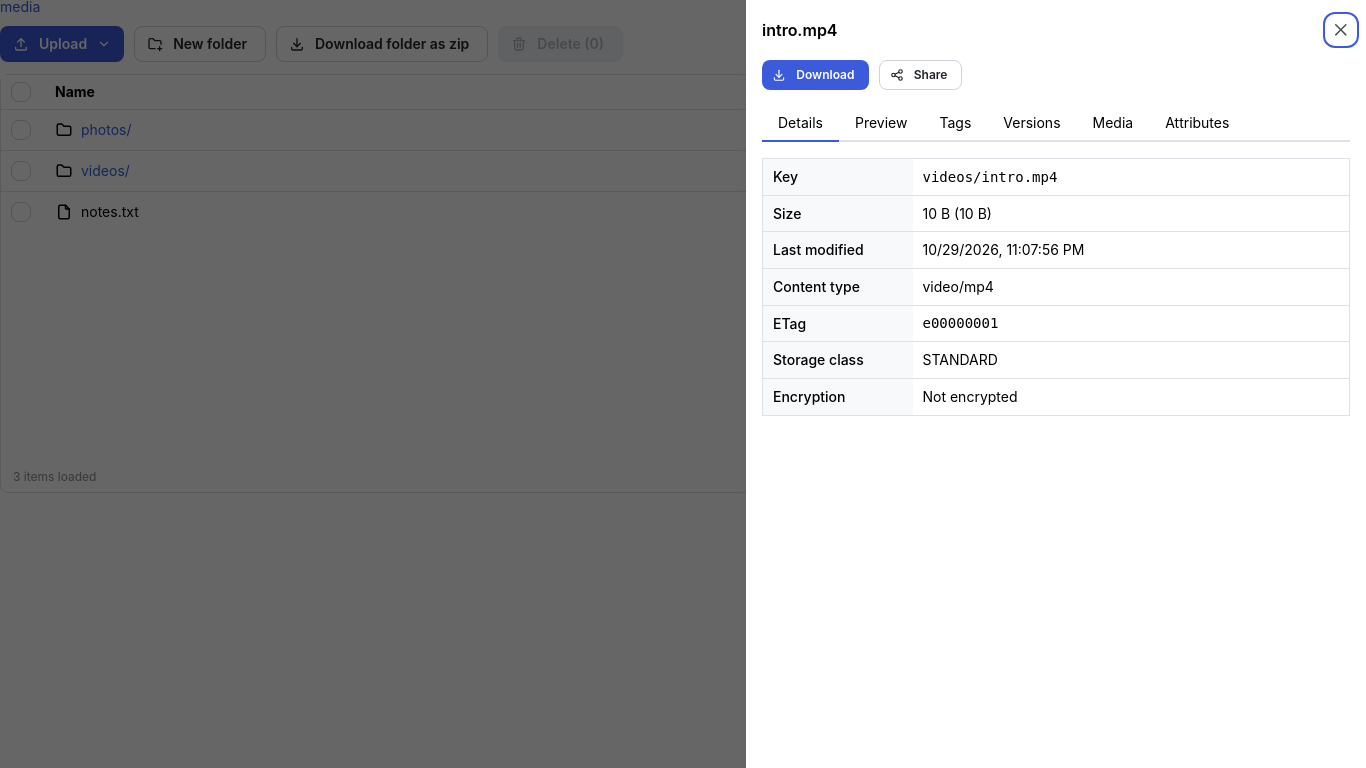
ObjectMediaPanel › reprocesses a video and shows its outputs
Click the tab "Media" at point(1113, 124), box [1076,106,1149,142]
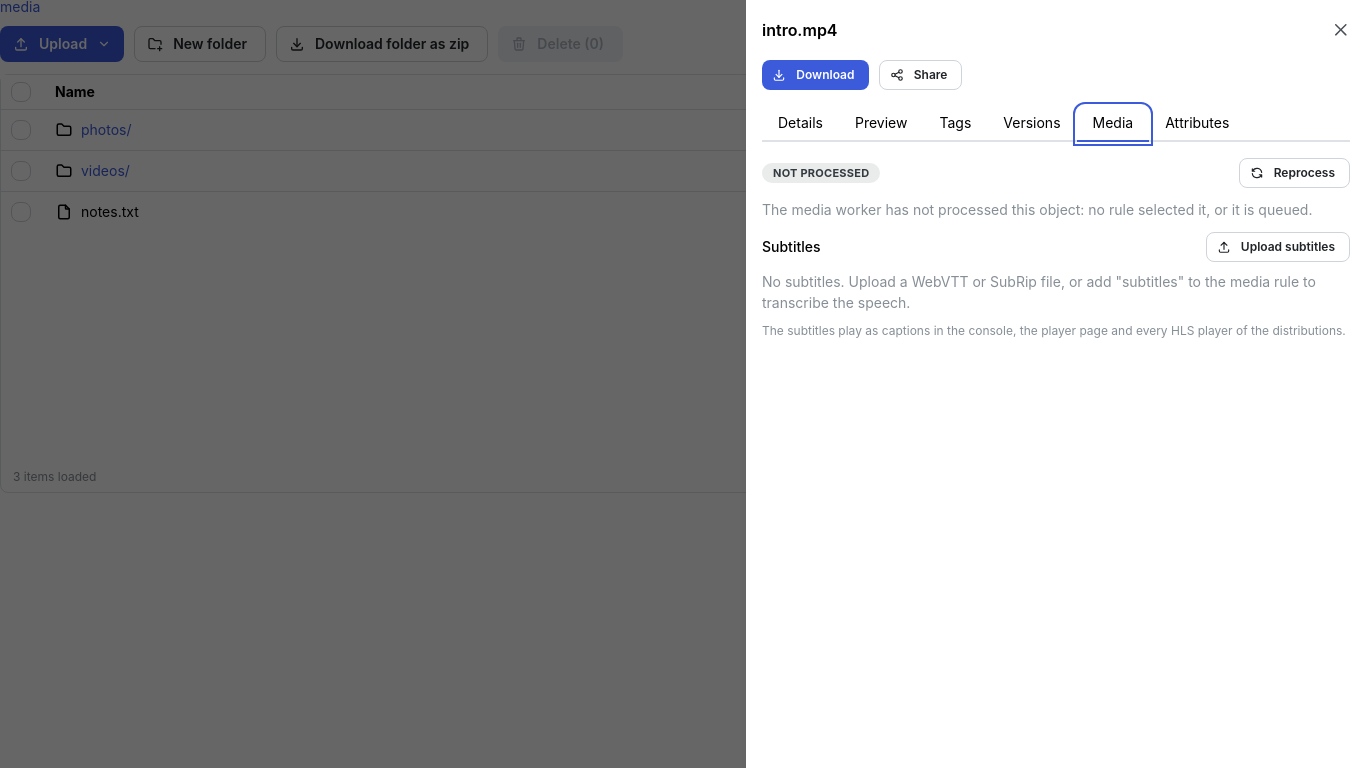
Now the text "Not processed" is shown, box [773,164,869,182]
Click the button "Reprocess" at point(1295, 173), box [1239,158,1350,188]
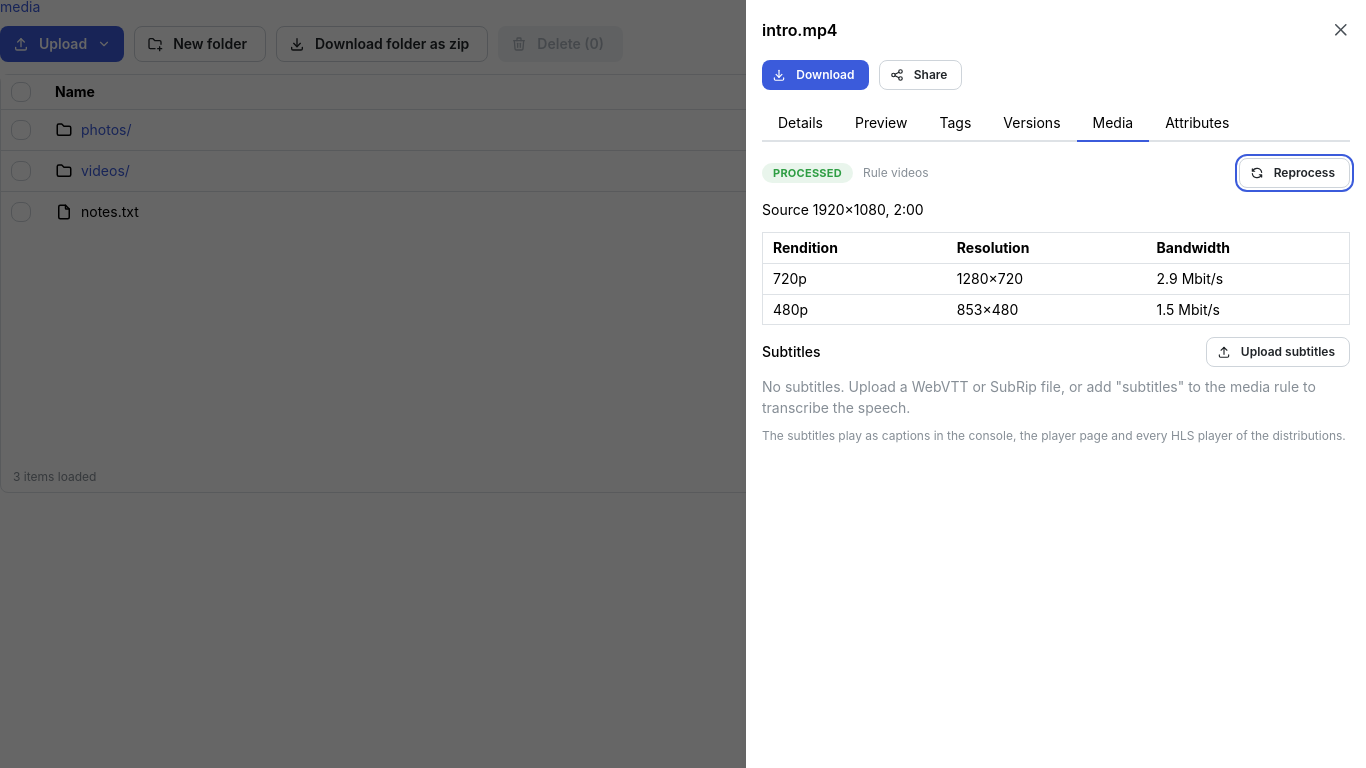
Now the text "Processed" is shown, box [773,164,842,182]
Now the text "720p" is shown, box [762,264,947,294]
Now the text "1280×720" is shown, box [947,264,1146,294]
